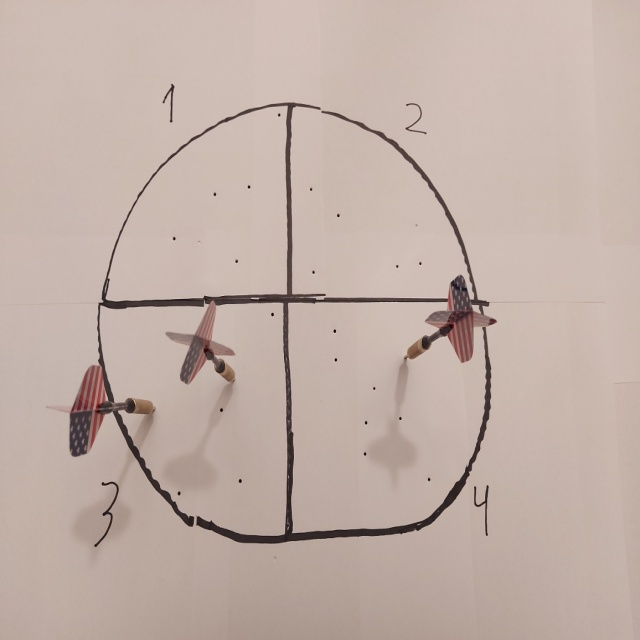Dart: (41, 359, 161, 459), (399, 271, 497, 371), (163, 302, 240, 389)
